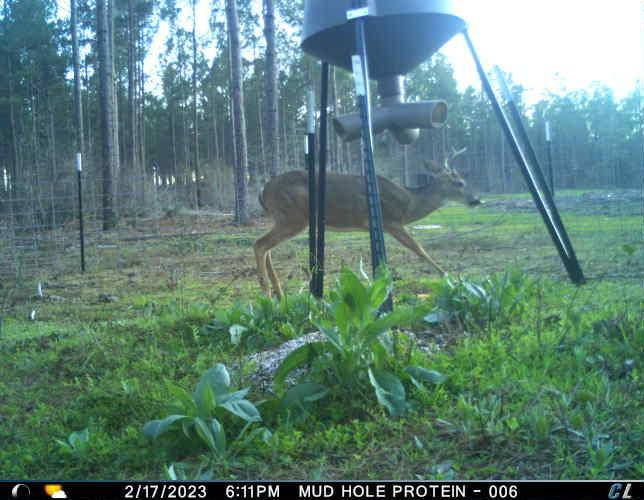Deer: (251, 136, 484, 299)
